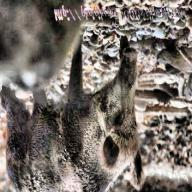boar: (4, 51, 174, 192)
